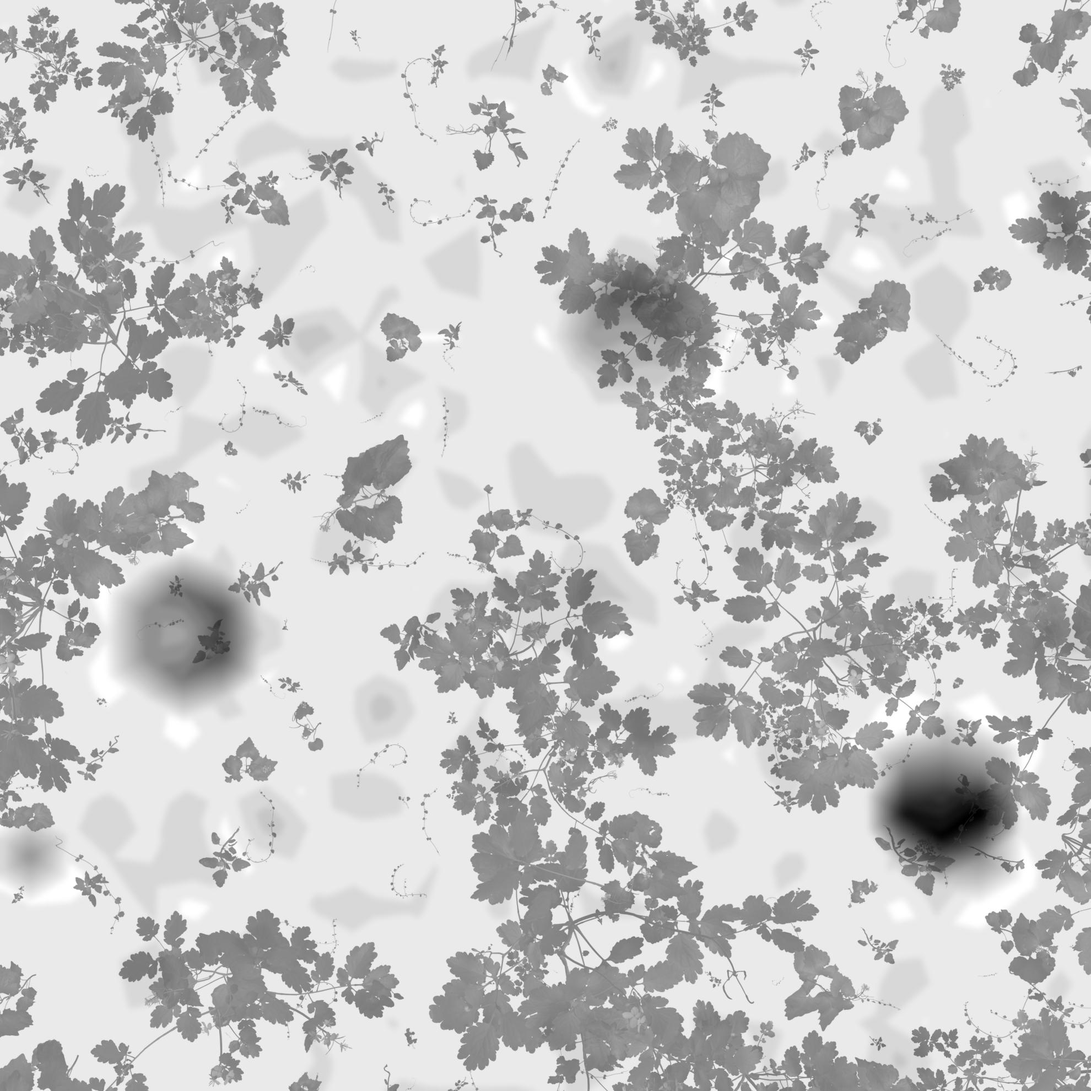landmine: (118, 543, 284, 718), (550, 240, 714, 405), (868, 729, 1031, 885)
